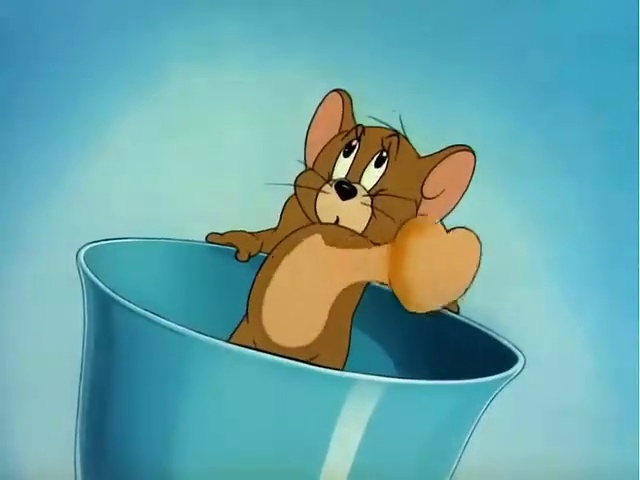jerry: (190, 40, 499, 377)
